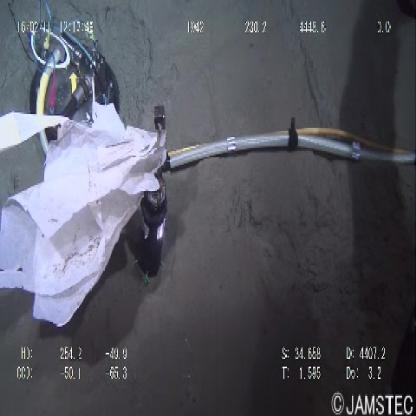Rov: (25, 17, 128, 120)
Rác: (1, 108, 165, 330)
